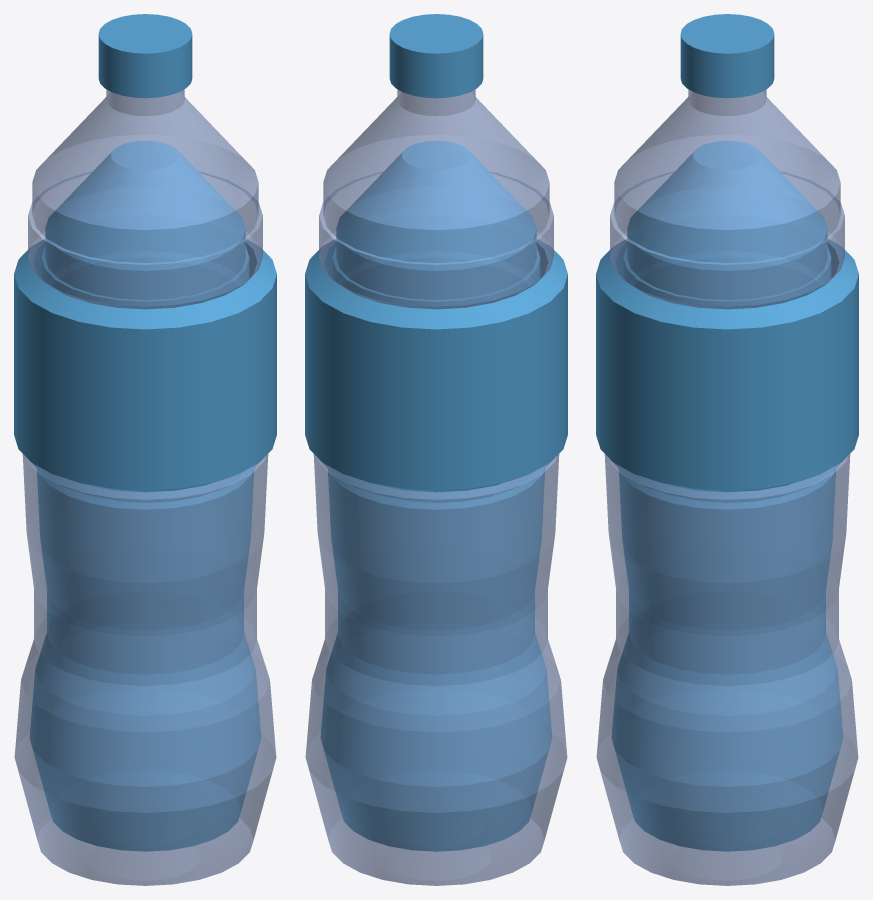
The model's file is Bottled Water.fbx.
3 views of the same model, side by side, from view 1: azimuth 30°, elevation 25°; view 2: azimuth 150°, elevation 25°; view 3: azimuth 270°, elevation 25° (orthographic).
Visible parts, largest first — view 1: Group1, Group2; view 2: Group1, Group2; view 3: Group1, Group2.
Boxes of the visible parts, box(x1,y1,x2,y2) form: Group1: box(14, 14, 276, 885); Group2: box(29, 140, 261, 851); Group1: box(305, 14, 567, 885); Group2: box(320, 140, 552, 851); Group1: box(596, 14, 858, 885); Group2: box(611, 140, 843, 851).
Bounding box in the file's own units: 2.1 × 7.26 × 2.1.
